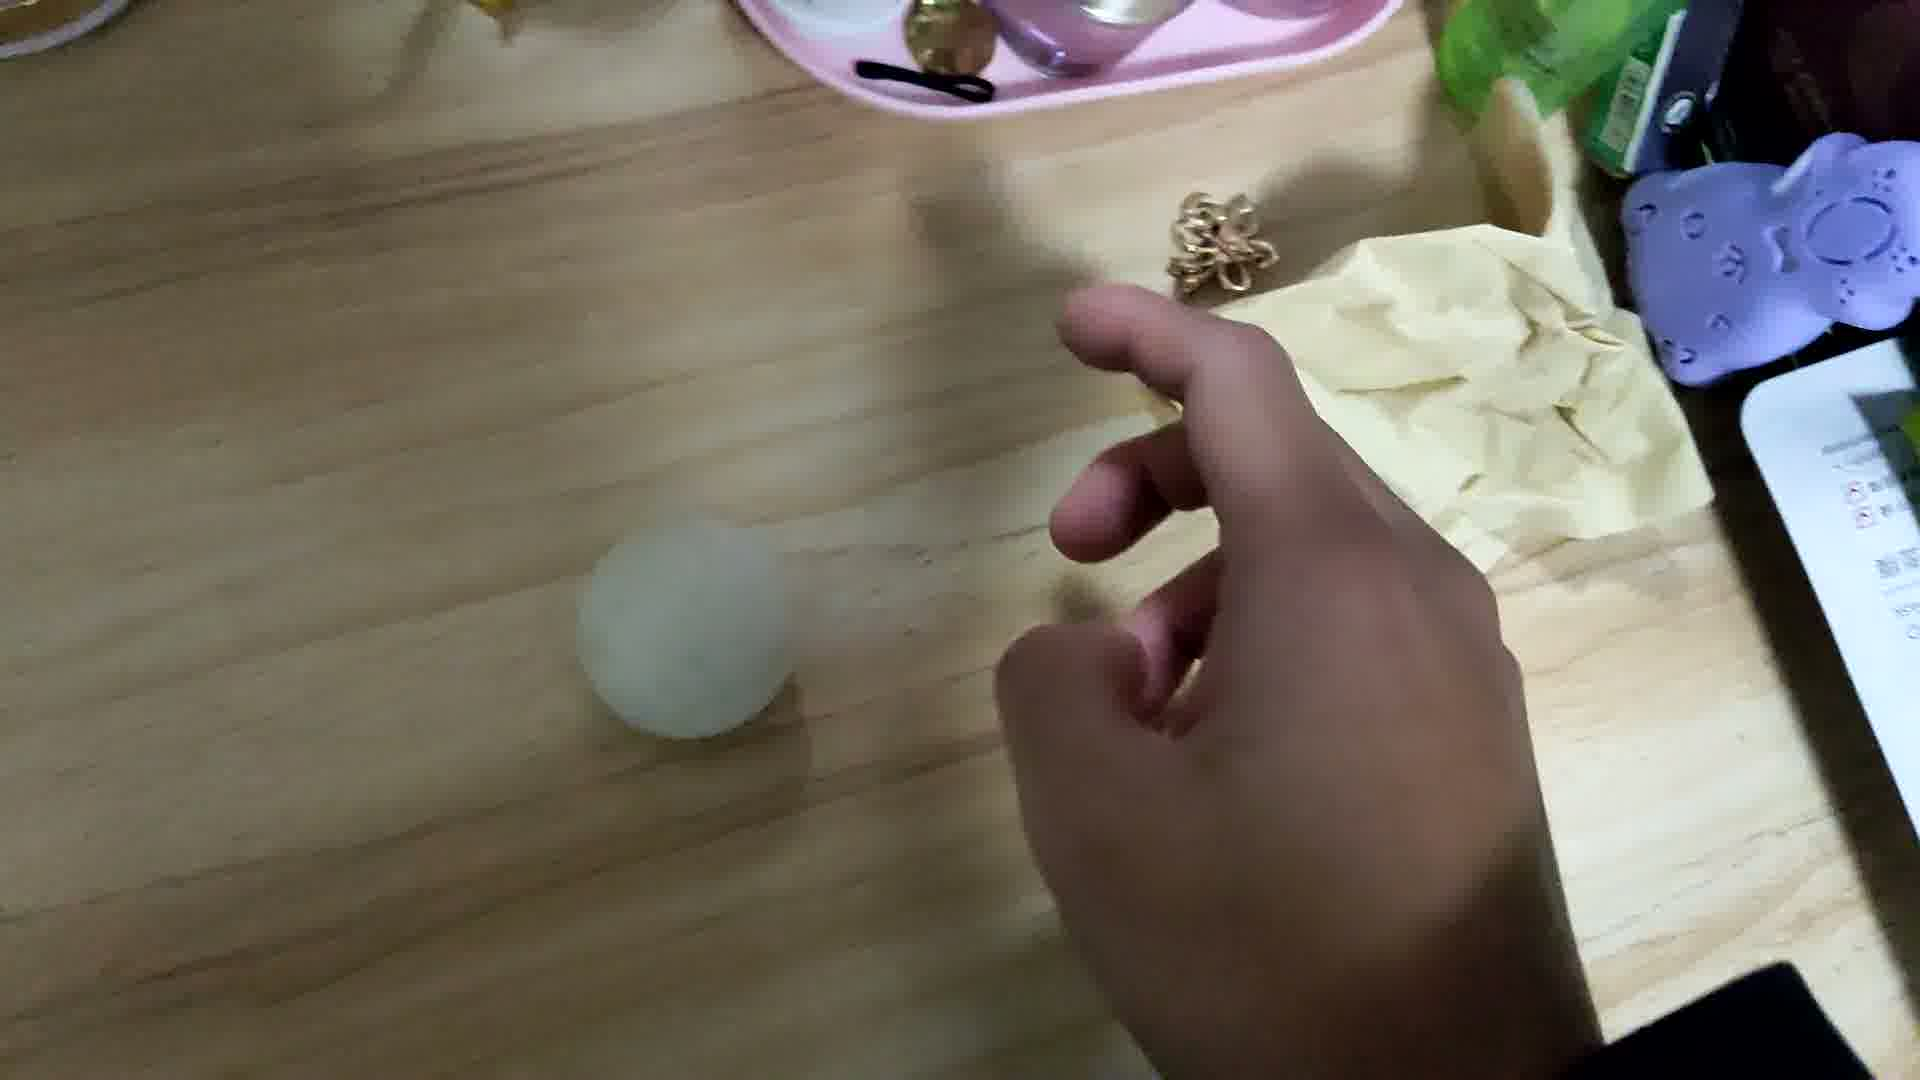Ball: (570, 508, 806, 740)
